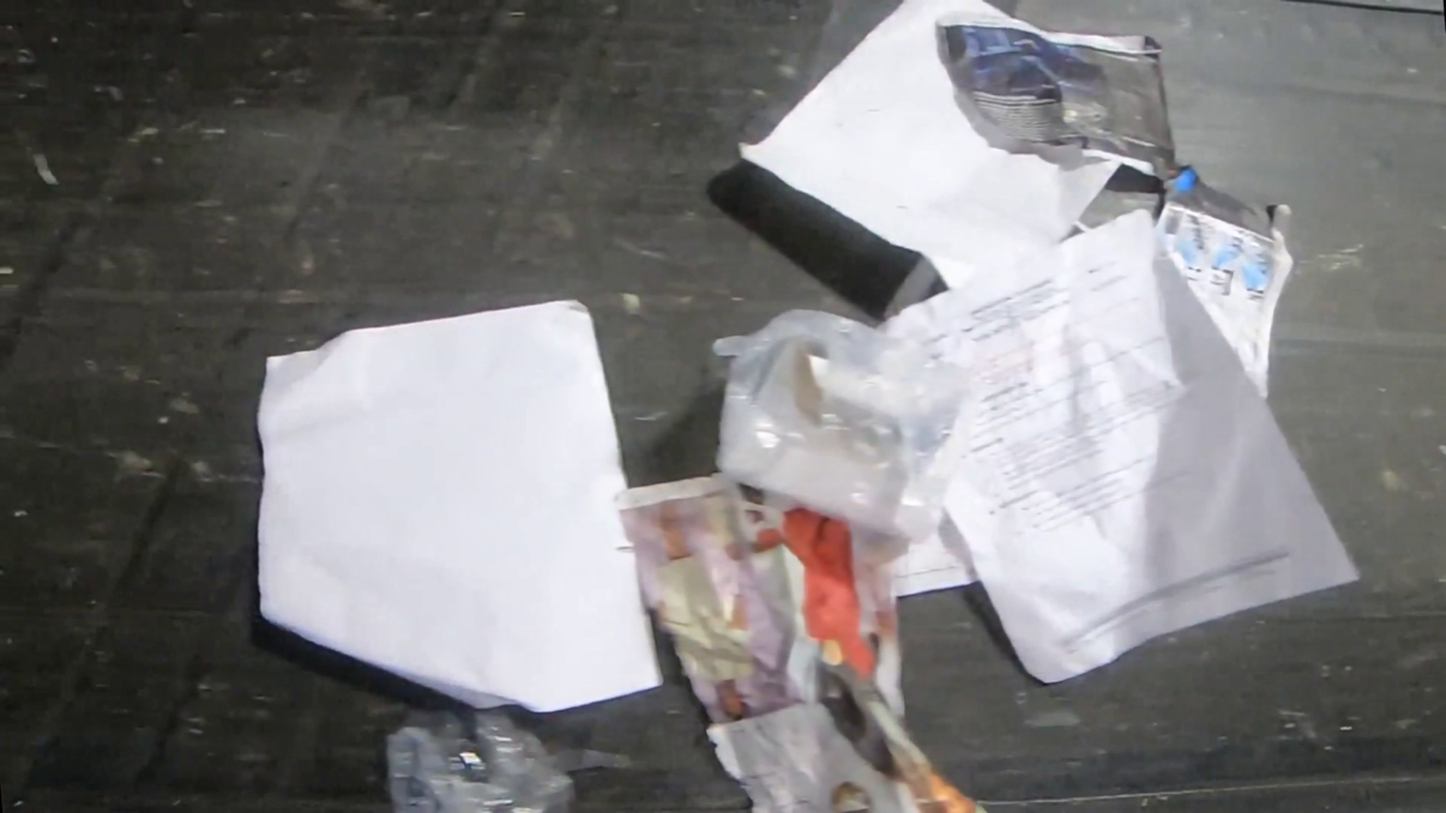plastic: (702, 303, 985, 550), (381, 702, 632, 812)
